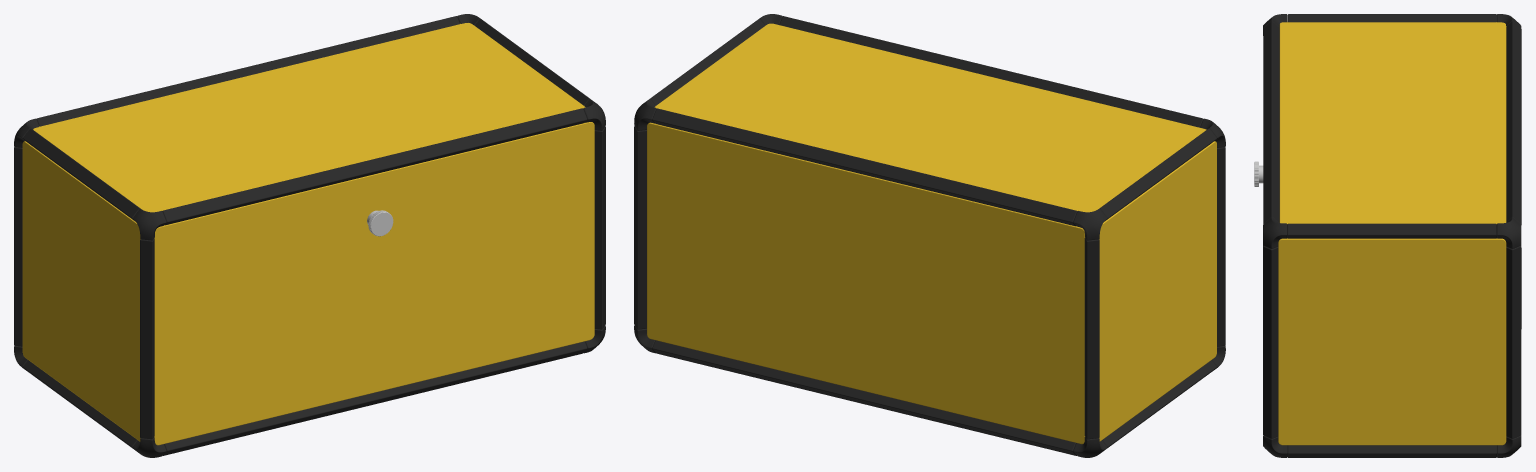
3 renders of one model, left to right at view 1: azimuth 30°, elevation 25°; view 2: azimuth 150°, elevation 25°; view 3: azimuth 270°, elevation 25°, orthographic. The views are drawn at different scales.
Visible parts, largest first — view 1: 729x329x329; view 2: 729x329x329; view 3: 729x329x329.
Boxes of the visible parts, x1,y1,x2,y2 form: 729x329x329: (14, 14, 605, 457); 729x329x329: (634, 14, 1225, 457); 729x329x329: (1254, 14, 1521, 457).
Bounding box in the file's own units: 0.8067 × 0.4066 × 0.4196.
